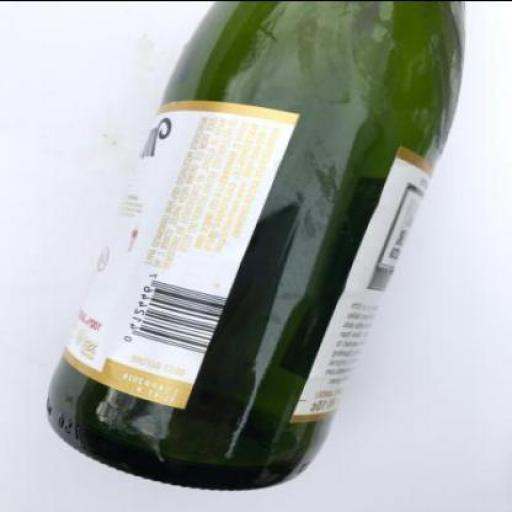glass: (40, 1, 462, 490)
